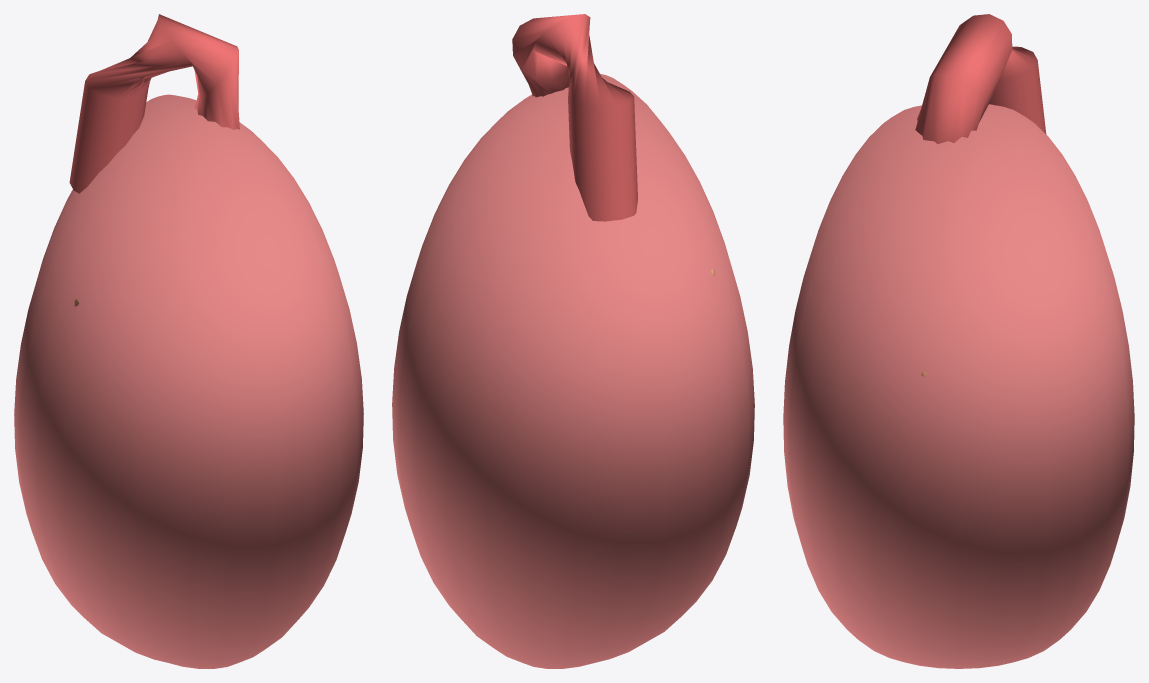
Rendered from coronary-heart.glb.
The picture shows the model from 3 angles, left to right: view 1: azimuth 30°, elevation 25°; view 2: azimuth 150°, elevation 25°; view 3: azimuth 270°, elevation 25°; orthographic projection. The views are drawn at different scales.
Parts seen in each view (by area): view 1: Heart_Body, Aorta; view 2: Heart_Body, Aorta; view 3: Heart_Body, Aorta.
Part boxes in pixels (x1,y1,x2,y2): Heart_Body: [14, 94, 363, 668]; Aorta: [69, 14, 239, 193]; Heart_Body: [392, 74, 754, 668]; Aorta: [512, 14, 637, 221]; Heart_Body: [783, 104, 1134, 668]; Aorta: [915, 14, 1046, 143].
Size of the model in its own units: 1.54 by 3.01 by 1.51.
